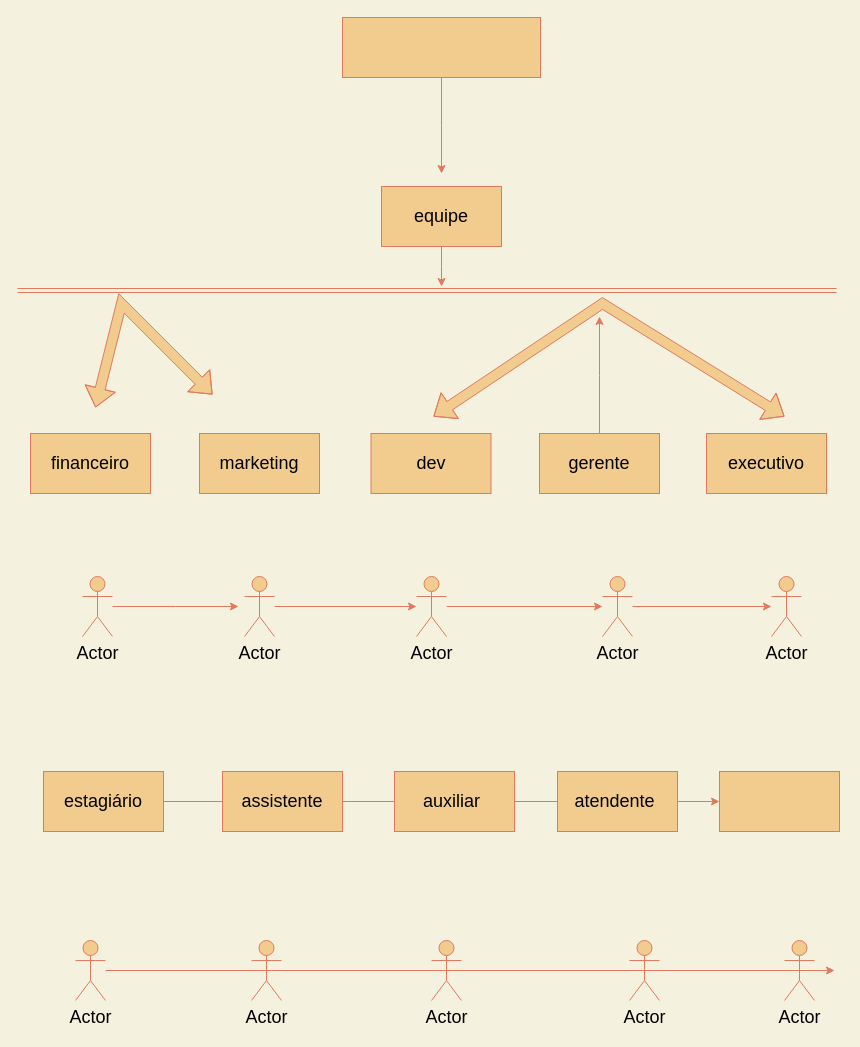
The diagram is 860 pixels wide and 1047 high, and some of its shapes have lost their labels. The box of each missing label's shape, as (x1, y1, x2, y2) in pixels:
banco mello: (342, 16, 540, 78)
caixa: (718, 770, 840, 832)
